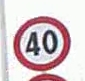limite 40: (12, 14, 71, 71)
